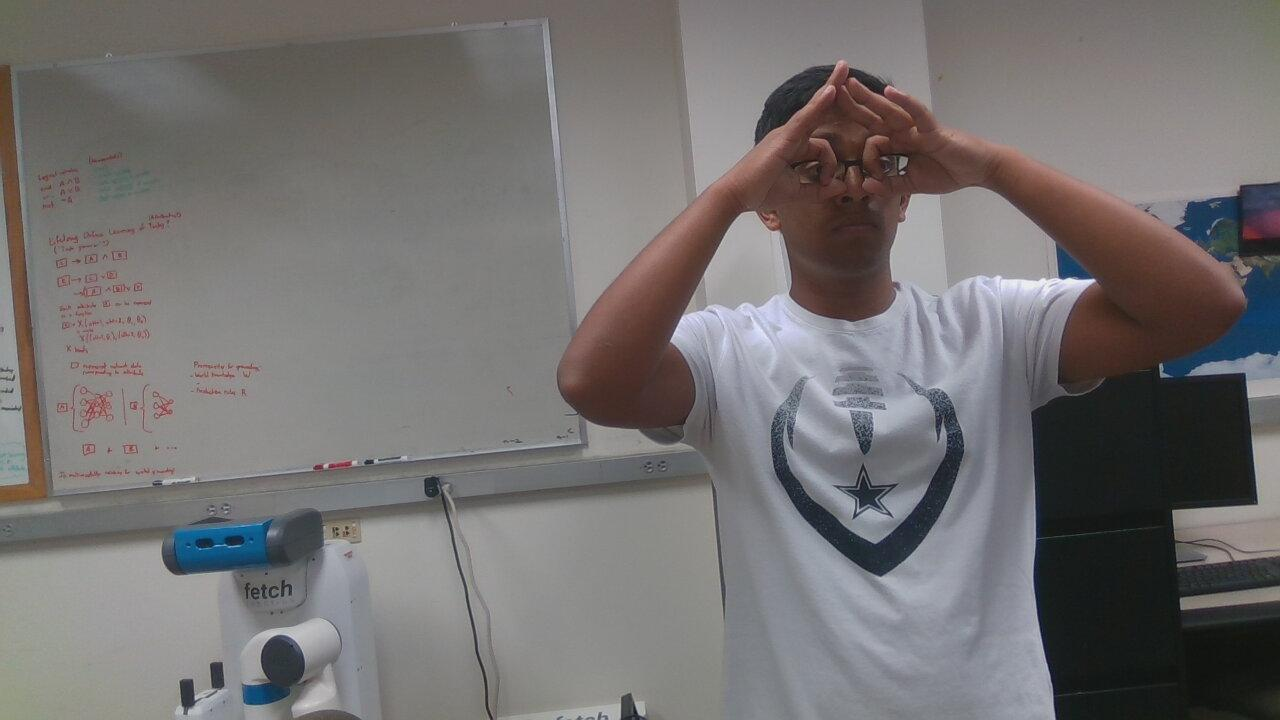hands: (746, 34, 960, 260)
